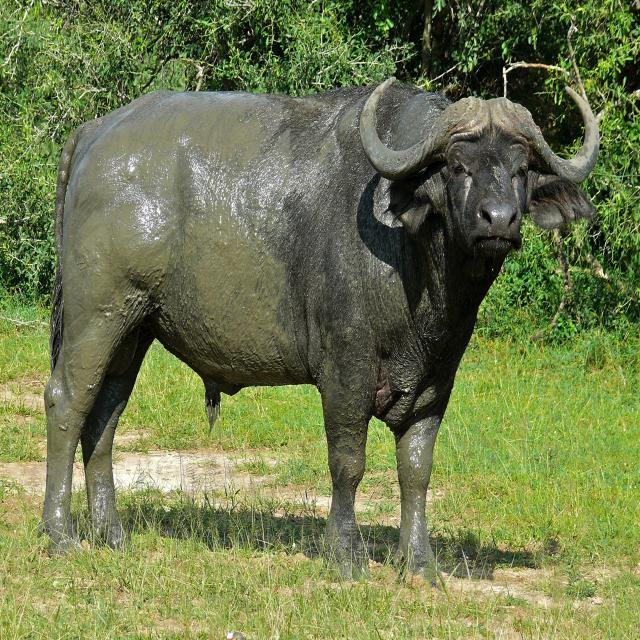buffalo: (7, 60, 606, 603)
